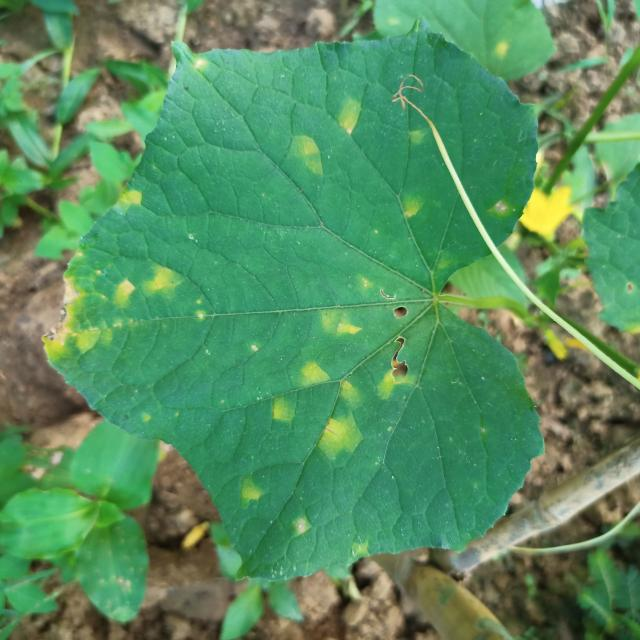disease_cucumber: (262, 271, 419, 468), (47, 255, 186, 385), (289, 85, 371, 193), (225, 468, 266, 516), (106, 176, 146, 215), (392, 180, 426, 225)
